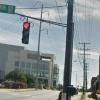Traffic light: (16, 17, 35, 58)
